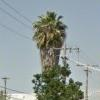Palm tree: (28, 7, 75, 86)
